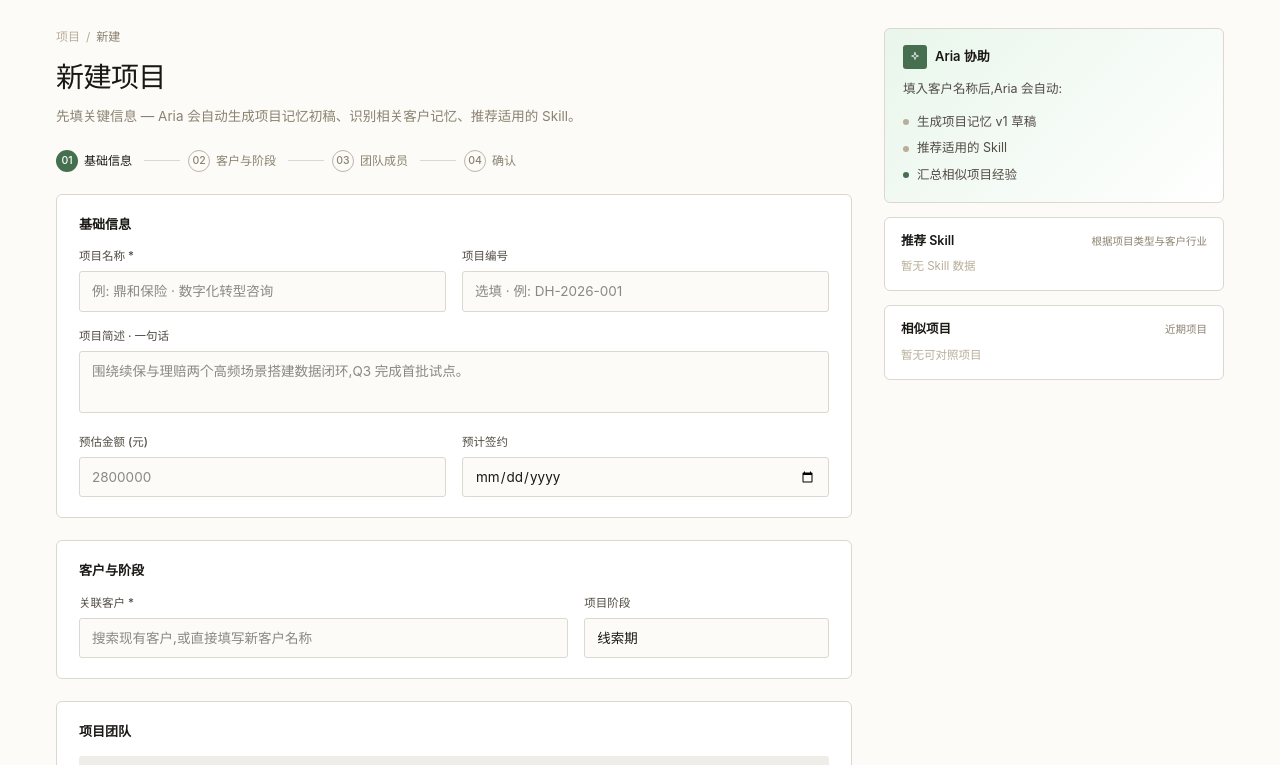
it: CxNewProject client identity › does not show projects from a duplicate-name client after selecting an id
The image size is (1280, 765).
Type "客户身份测试项目" into the field with placeholder "例: 鼎和保险 · 数字化转型咨询" at (262, 291), box left=79, top=271, right=446, bottom=312
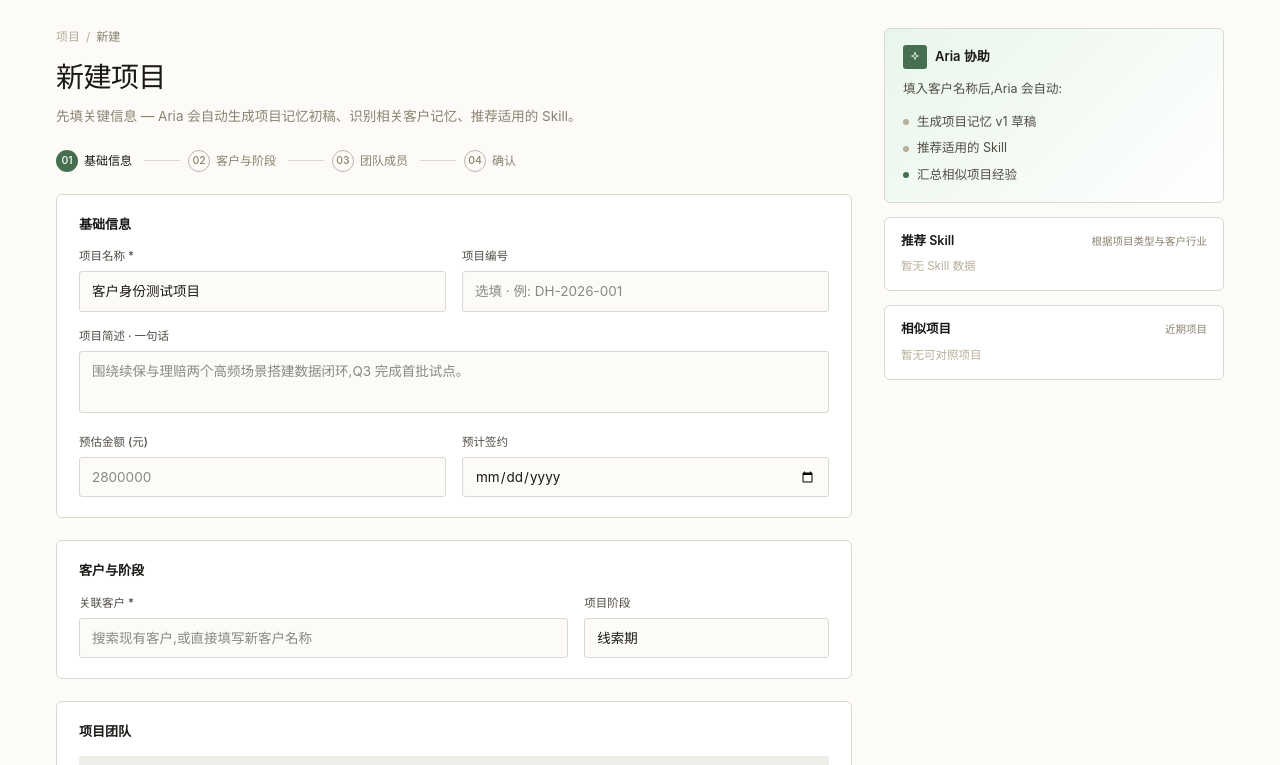
Type "同名客户" into the field with placeholder "搜索现有客户,或直接填写新客户名称" at (324, 638), box left=79, top=618, right=568, bottom=658
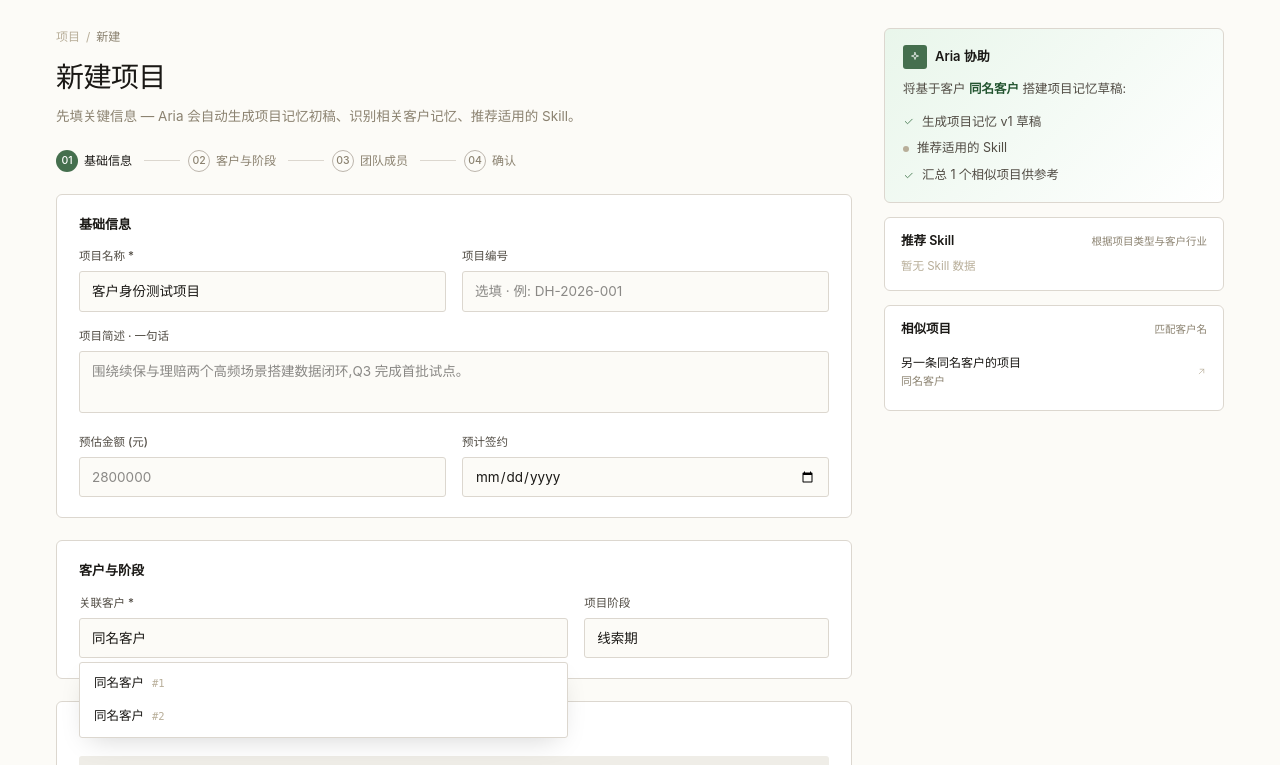
Check: the button "同名客户#2" is shown
Click the button "同名客户#2" at (119, 716), box left=84, top=700, right=563, bottom=733
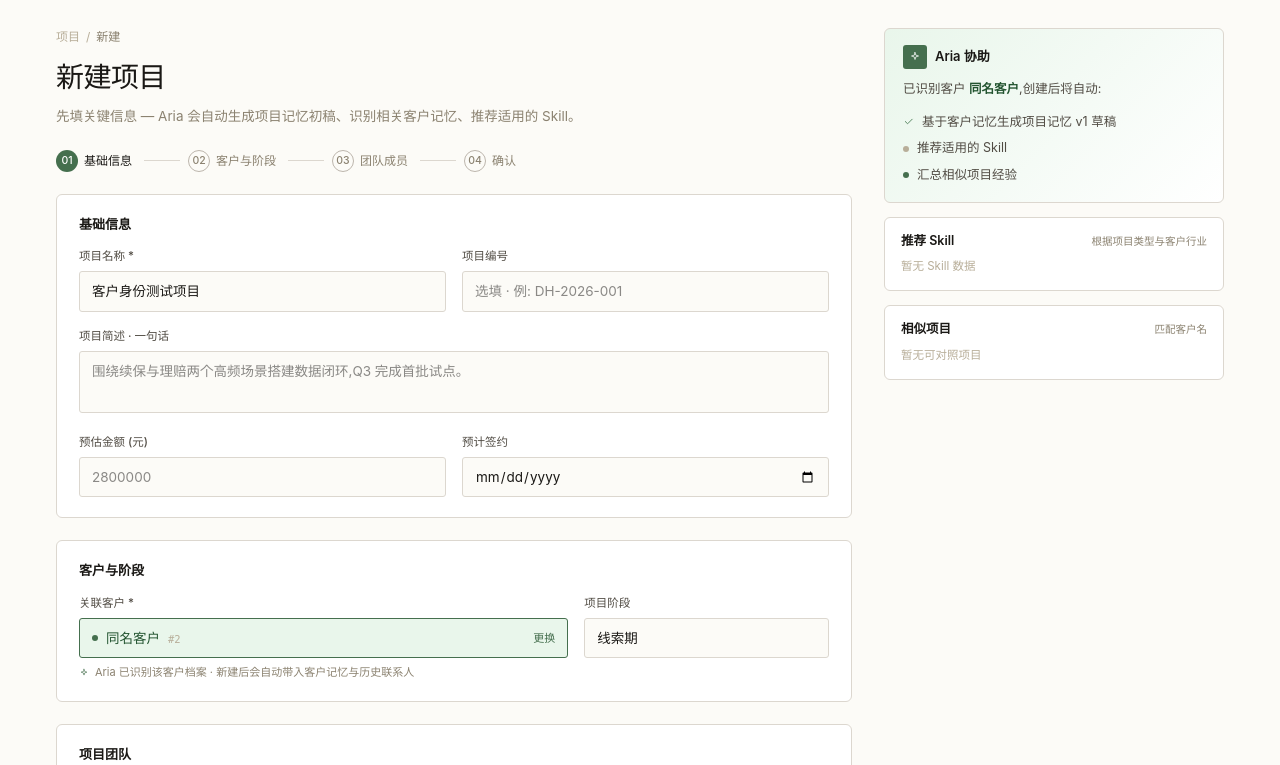
Check: the text "另一条同名客户的项目" is gone
